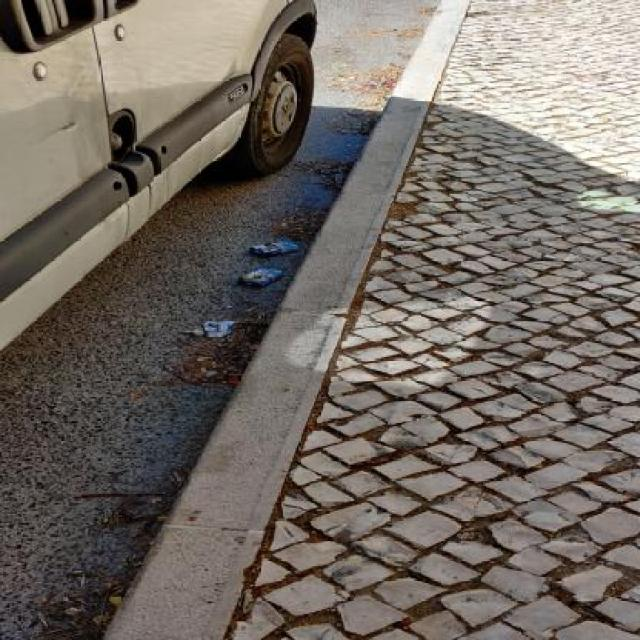cardboard: (249, 240, 300, 257), (239, 268, 283, 286)
